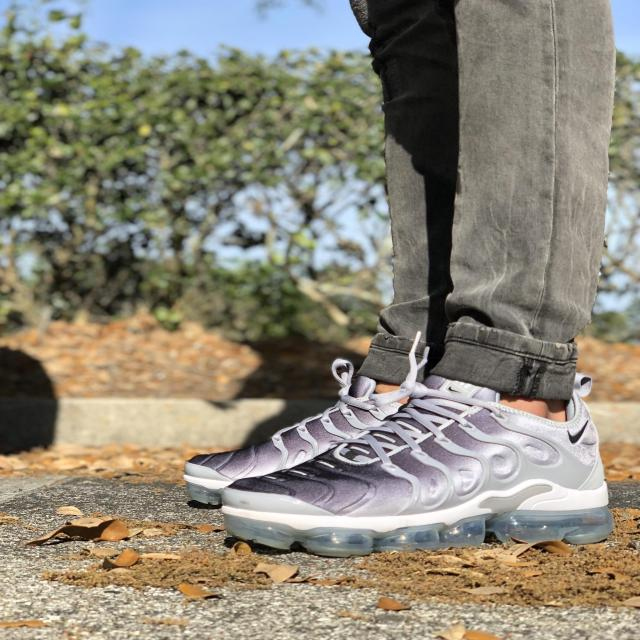shoe: (209, 395, 625, 550), (161, 328, 448, 519)
